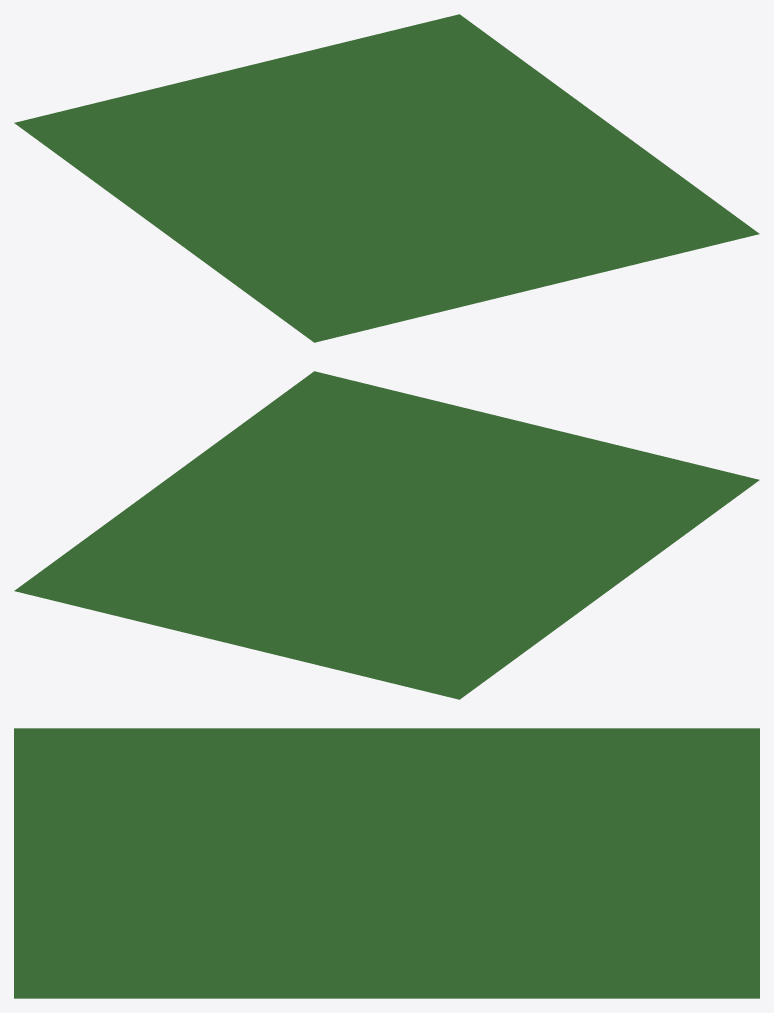
File: Landscape.fbx
3 renders of one model, top to bottom at view 1: azimuth 30°, elevation 25°; view 2: azimuth 150°, elevation 25°; view 3: azimuth 270°, elevation 25°, orthographic. The views are drawn at different scales.
Visible parts, largest first — view 1: Plane__3_, Plane, Plane__1_, Plane__2_; view 2: Plane, Plane__1_, Plane__2_, Plane__3_; view 3: Plane__2_, Plane, Plane__3_, Plane__1_.
Part boxes in pixels (<box>): Plane__3_: <box>387,124,759,288</box>; Plane: <box>14,68,385,232</box>; Plane__1_: <box>164,178,536,342</box>; Plane__2_: <box>237,14,609,178</box>; Plane: <box>237,535,609,699</box>; Plane__1_: <box>388,425,759,589</box>; Plane__2_: <box>14,481,386,645</box>; Plane__3_: <box>164,371,536,535</box>; Plane__2_: <box>386,863,759,998</box>; Plane: <box>386,728,759,863</box>; Plane__3_: <box>14,863,387,998</box>; Plane__1_: <box>14,728,387,863</box>.
Bounding box in the file's own units: 10158 × 0.000895 × 11858.
